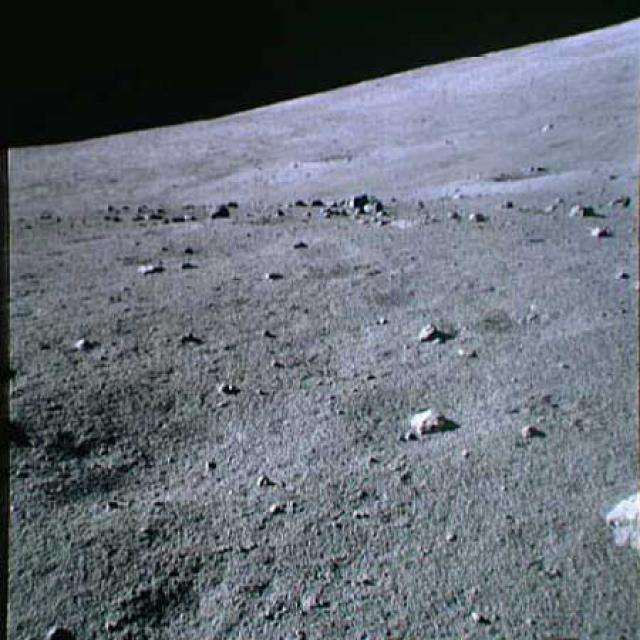crater: (462, 152, 595, 183)
rock: (391, 400, 449, 444), (602, 480, 638, 550), (347, 189, 392, 229), (564, 198, 605, 224), (209, 192, 236, 224), (412, 313, 442, 341), (135, 252, 168, 276)
